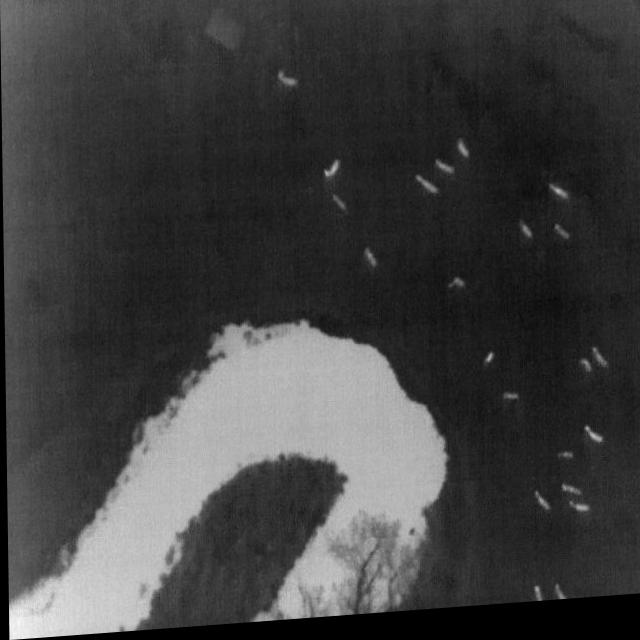deer: (414, 180, 438, 202), (581, 433, 602, 454), (322, 163, 342, 183), (548, 190, 568, 210), (434, 165, 455, 184), (531, 498, 549, 520), (590, 355, 606, 378), (277, 74, 297, 92), (559, 491, 580, 506), (567, 509, 590, 522), (455, 144, 469, 165), (362, 253, 376, 274), (331, 199, 347, 217), (519, 229, 532, 247), (578, 366, 591, 383), (552, 592, 565, 608), (448, 283, 464, 295), (554, 459, 572, 469), (481, 360, 493, 374), (502, 399, 518, 409), (532, 593, 541, 609)
